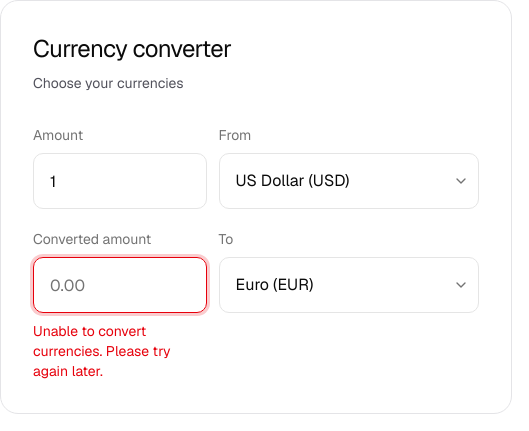
currency converter › shows a failed conversion and recovers when the user tries again
The image size is (529, 431).
expect the message reads "Unable to convert currencies. Please try again later.": met, box 33,322 -> 171,380
Replace the text in the number field labelled "Amount" with "100": (120, 181) 33,153 -> 207,209
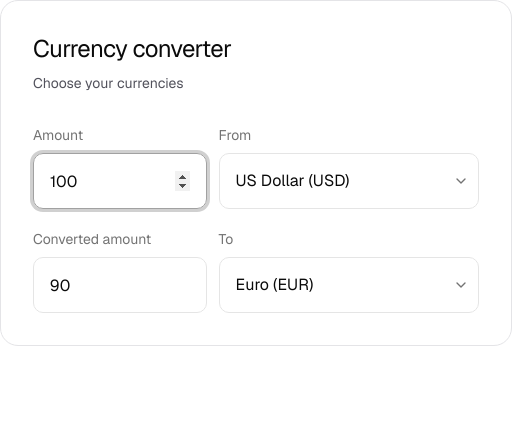
expect the number field labelled "Converted amount" holds "90": met, box 33,257 -> 207,313
